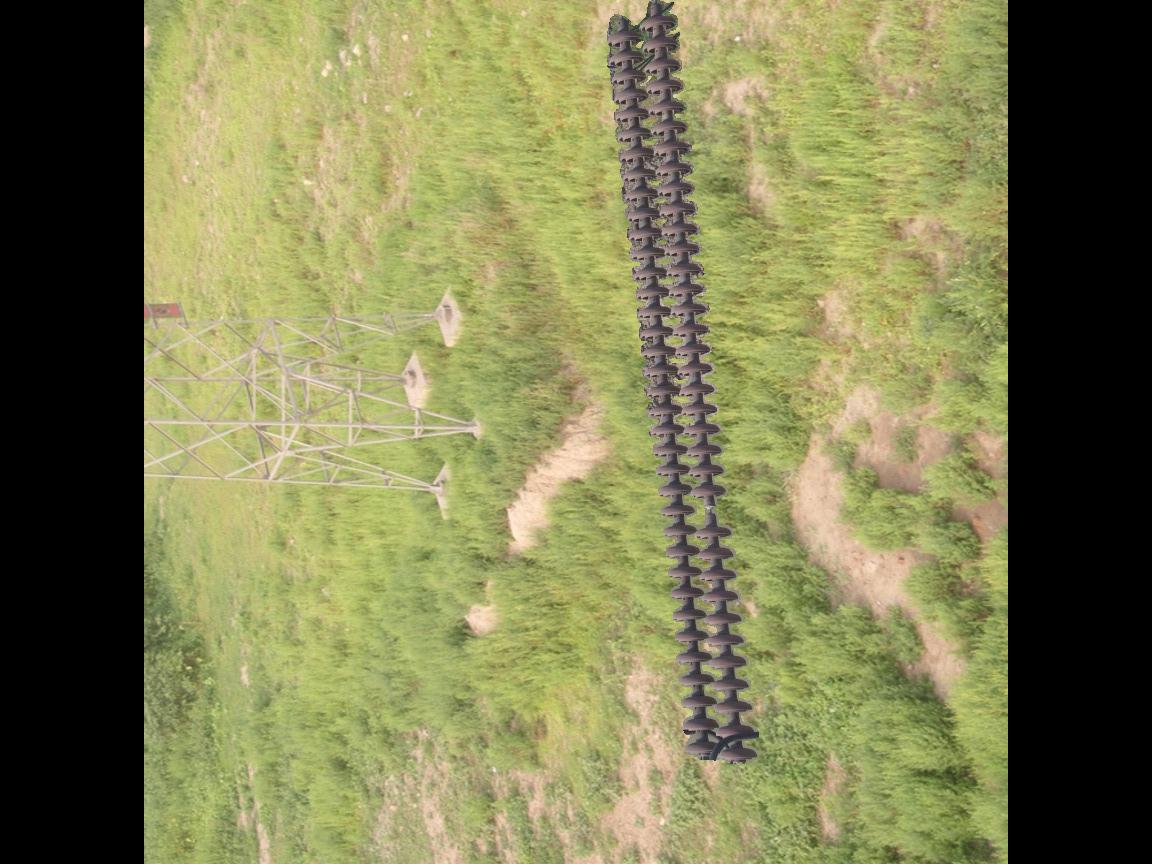insulator: (604, 1, 762, 770)
insulator_stringdrop: (690, 479, 734, 543)
